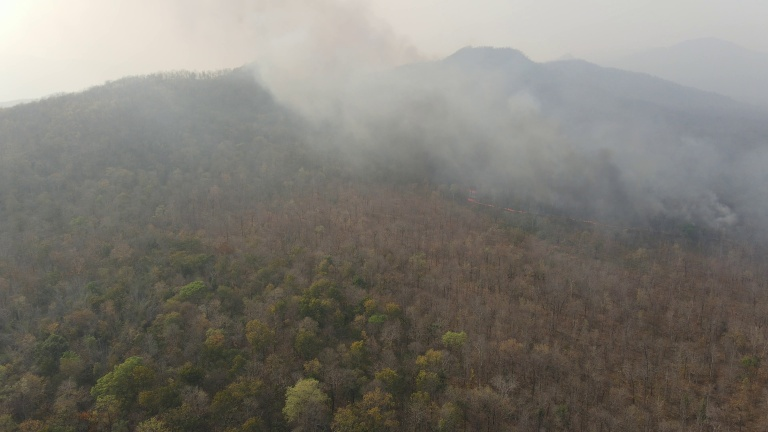fire: (461, 189, 532, 215), (564, 214, 597, 229)
smoke: (192, 2, 564, 199), (562, 97, 768, 223)
